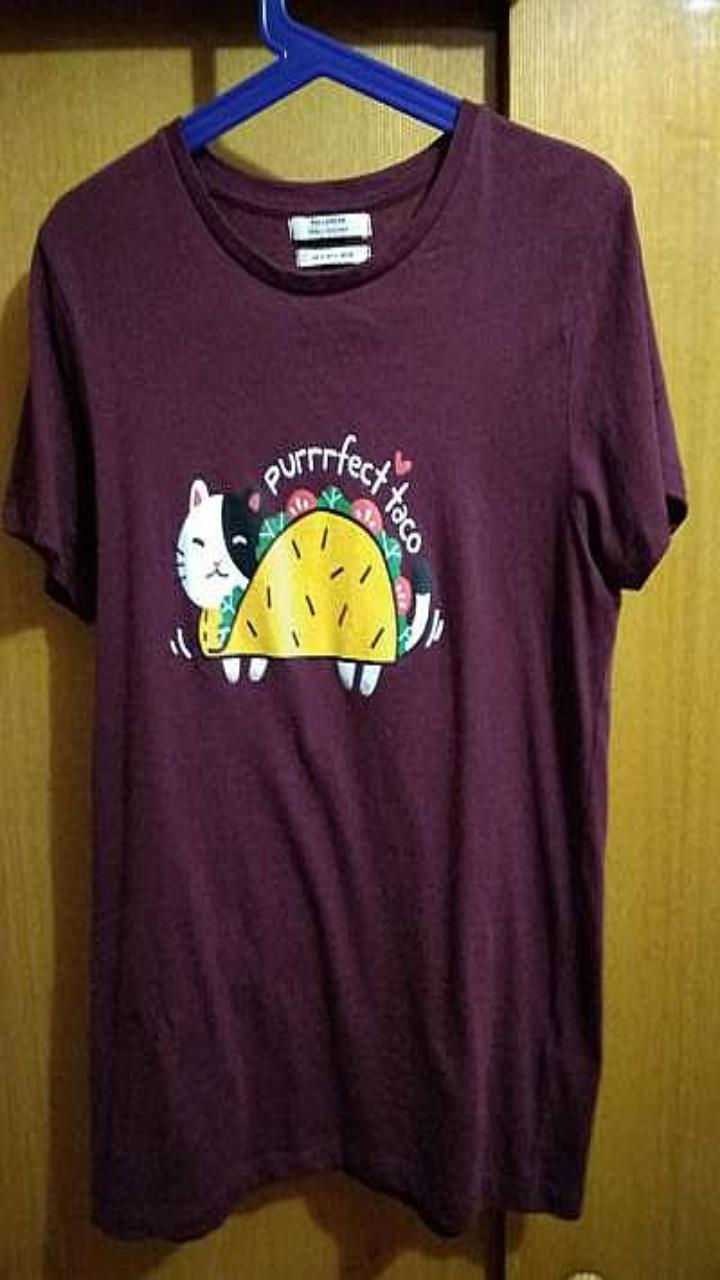T-Shirt: (3, 100, 686, 1239)
